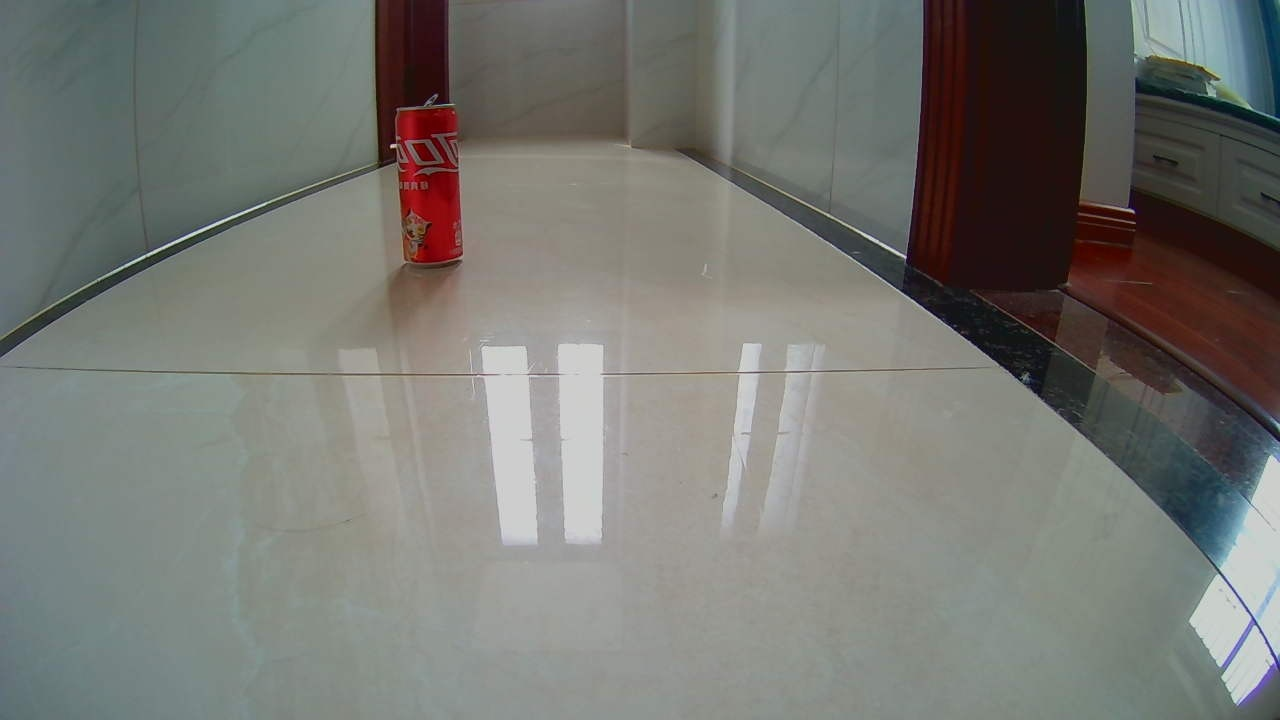cola: (395, 96, 464, 270)
